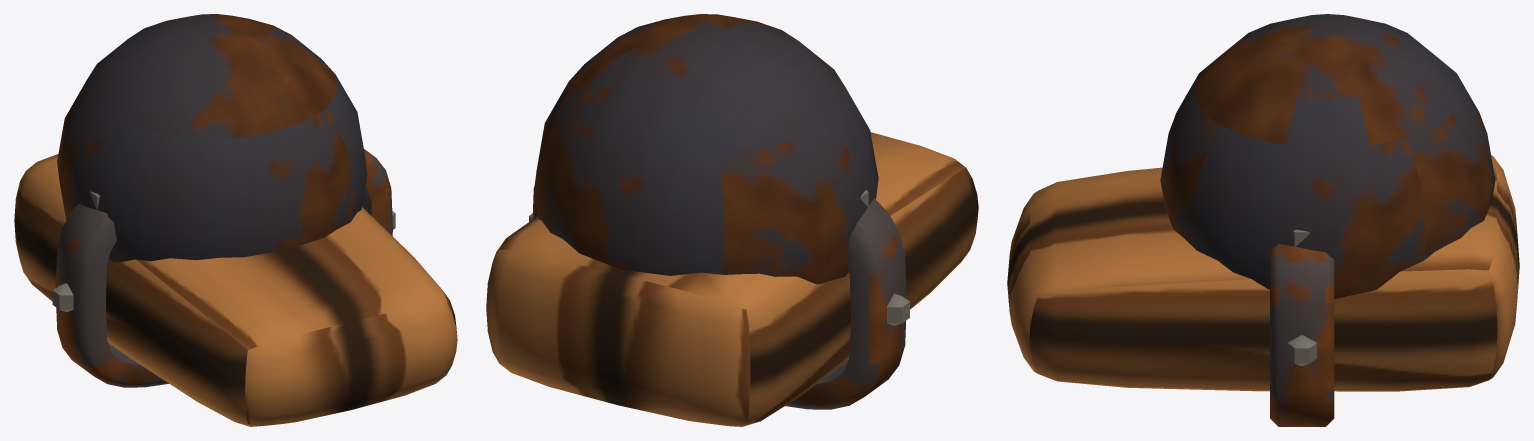
File: Foot_L.glb
3 renders of one model, left to right at view 1: azimuth 30°, elevation 25°; view 2: azimuth 150°, elevation 25°; view 3: azimuth 270°, elevation 25°, orthographic. The views are drawn at different scales.
Visible parts, largest first — view 1: Foot_L; view 2: Foot_L; view 3: Foot_L.
Boxes of the visible parts, x1,y1,x2,y2 form: Foot_L: (14, 14, 457, 426); Foot_L: (486, 14, 978, 426); Foot_L: (1007, 14, 1519, 426).
Size of the model in its own units: 0.194 by 0.179 by 0.2386.
4 materials, 3 textured.
